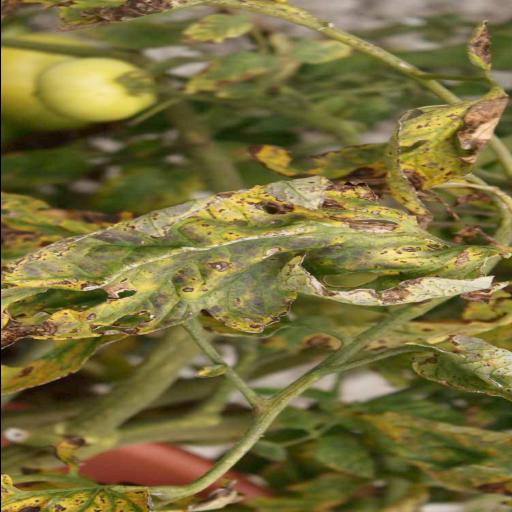disease_tomato: (0, 174, 496, 344), (384, 82, 512, 191)
